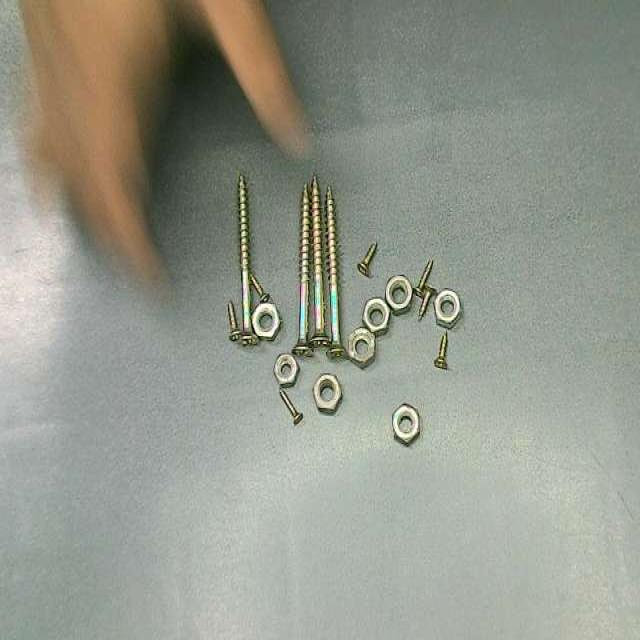Parafuso: (292, 184, 311, 355), (237, 175, 256, 345), (326, 187, 344, 358), (311, 175, 328, 346), (279, 390, 302, 425), (414, 259, 432, 297), (357, 243, 376, 277), (433, 331, 448, 370), (418, 287, 436, 319), (250, 274, 270, 302), (227, 300, 240, 341)
Porca: (392, 404, 420, 445), (347, 327, 375, 367), (313, 374, 341, 414), (252, 303, 280, 341), (434, 290, 461, 329), (385, 275, 412, 314), (363, 298, 390, 335), (274, 354, 298, 387)
